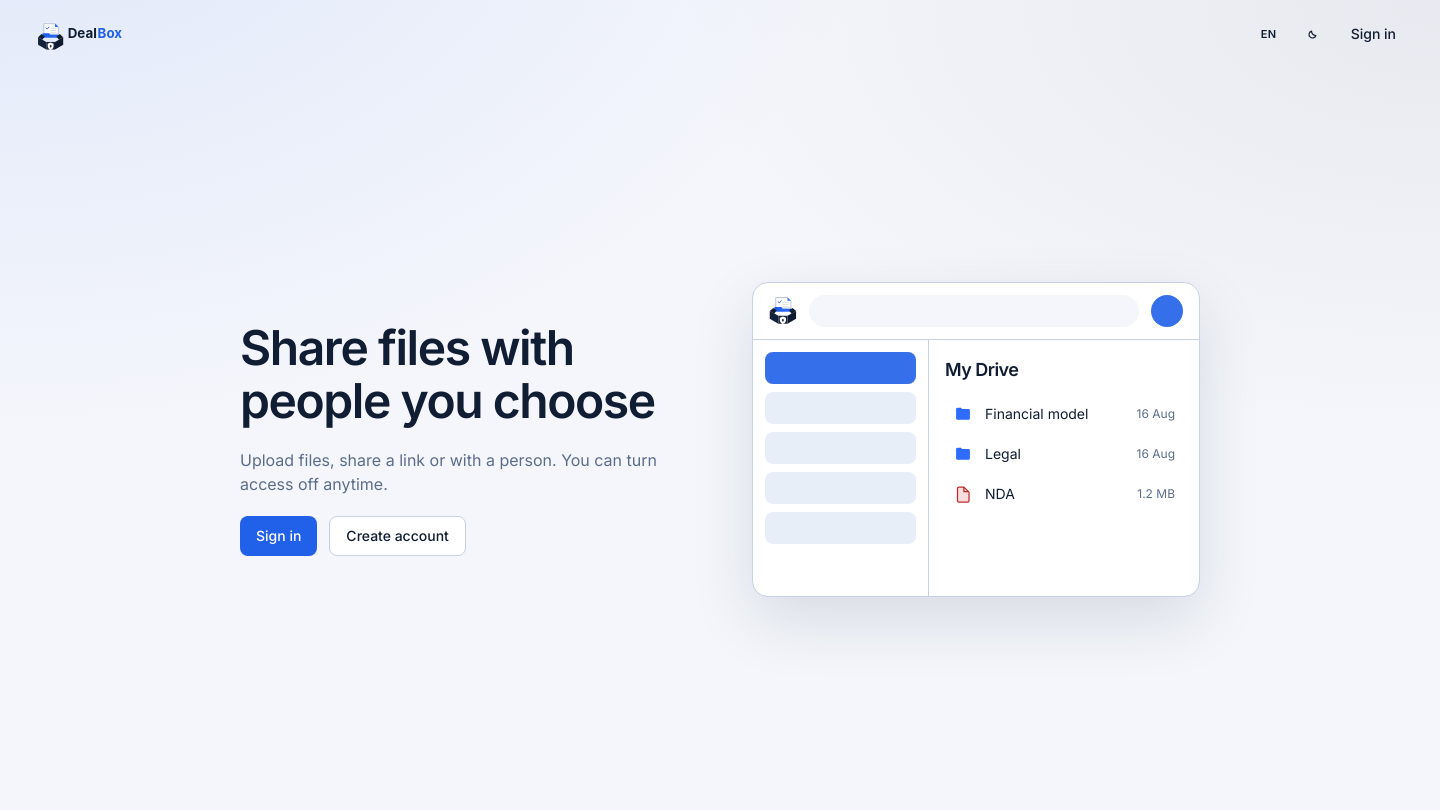
locale switcher › switches UI copy between locales
Expected: the 1st link "Sign in" is shown, [1351, 25, 1396, 42]
Step 1. Click the button with aria-label "Language" → point(1269, 34), box [1251, 16, 1287, 52]
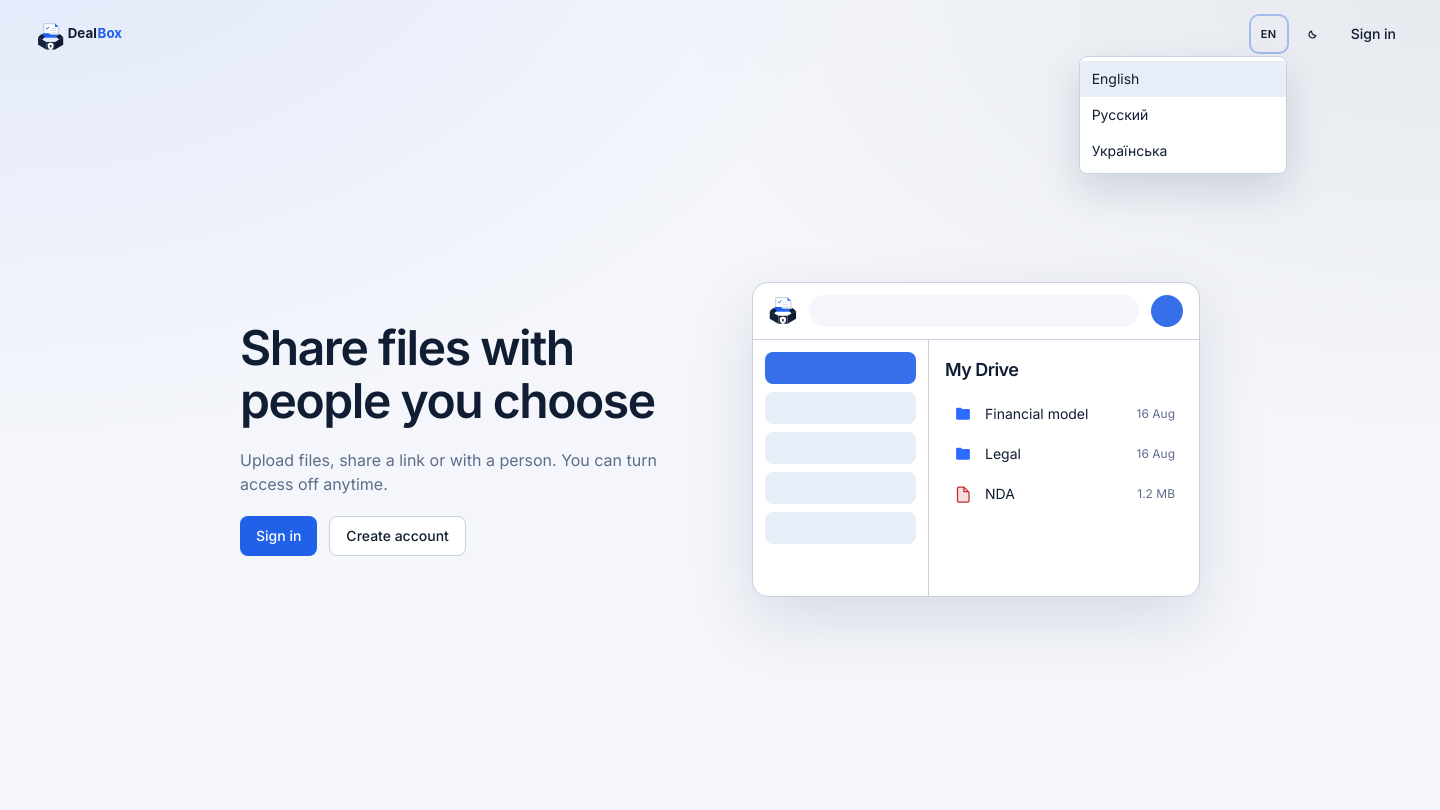
Step 2. Click the menu item "Русский" → point(1183, 115), box [1080, 97, 1286, 133]
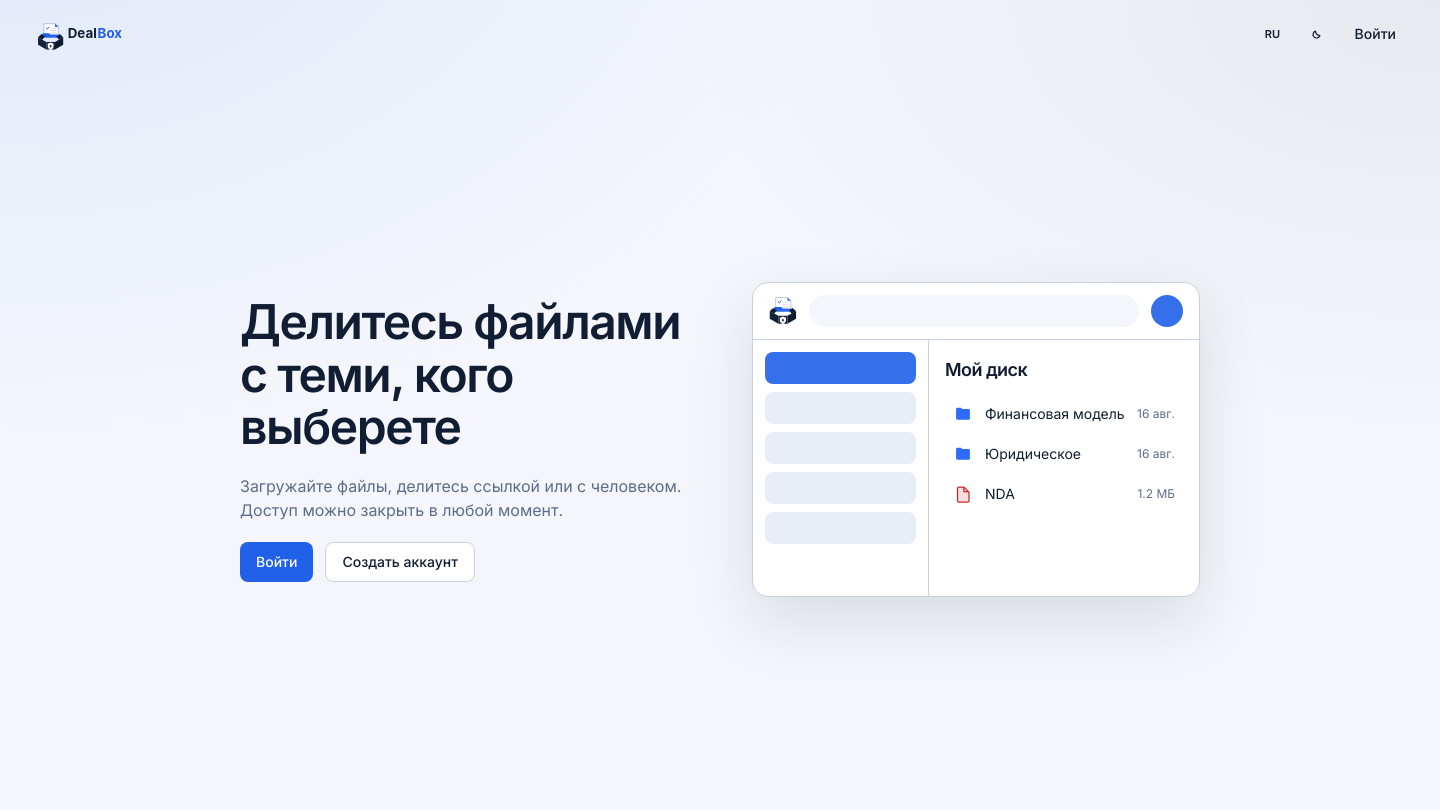
Result: the 1st link "Войти" is shown at [1355, 25, 1396, 42]
Step 3. Click the button with aria-label "Язык" → point(1273, 34), box [1255, 16, 1291, 52]
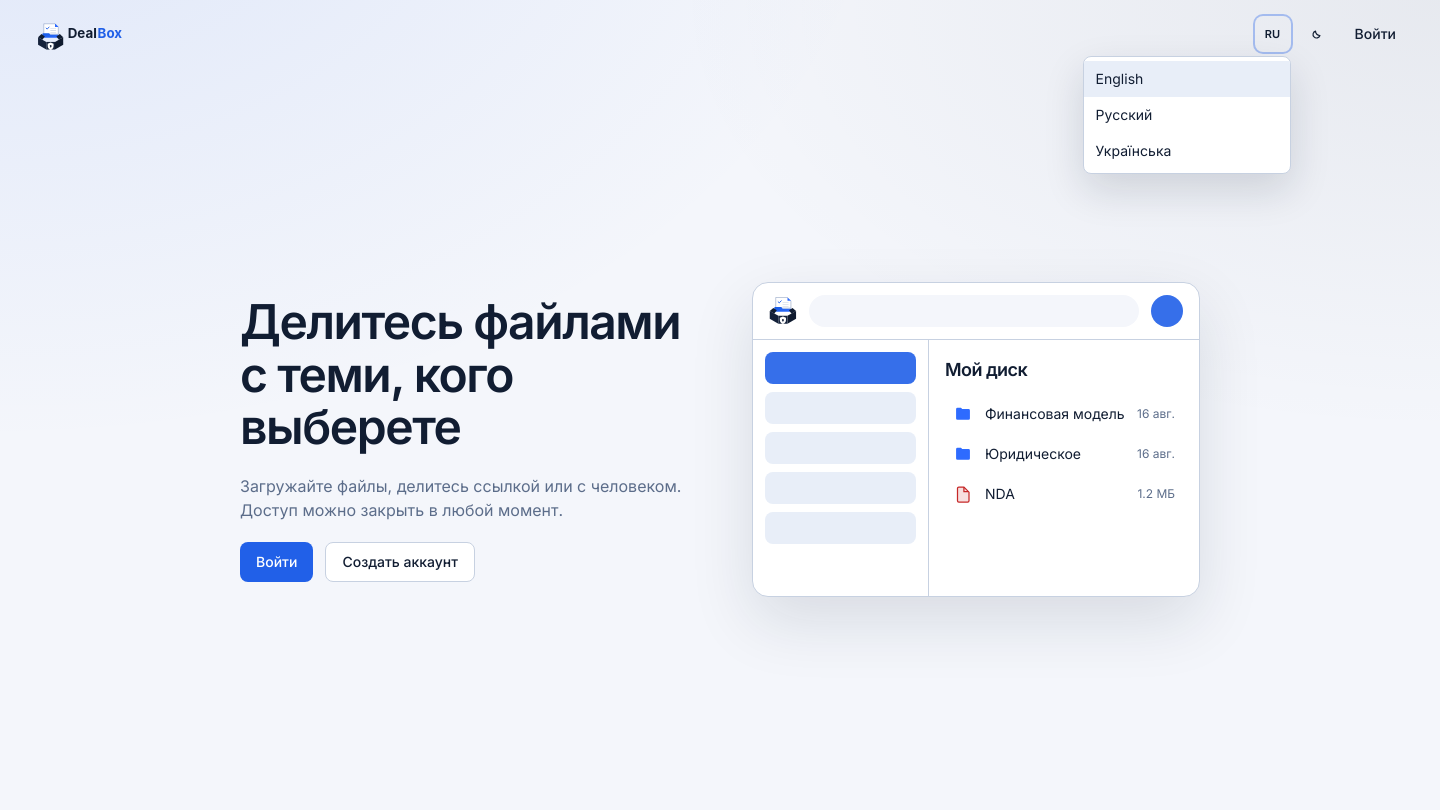
Step 4. Click the menu item "Українська" → point(1187, 151), box [1084, 133, 1290, 169]
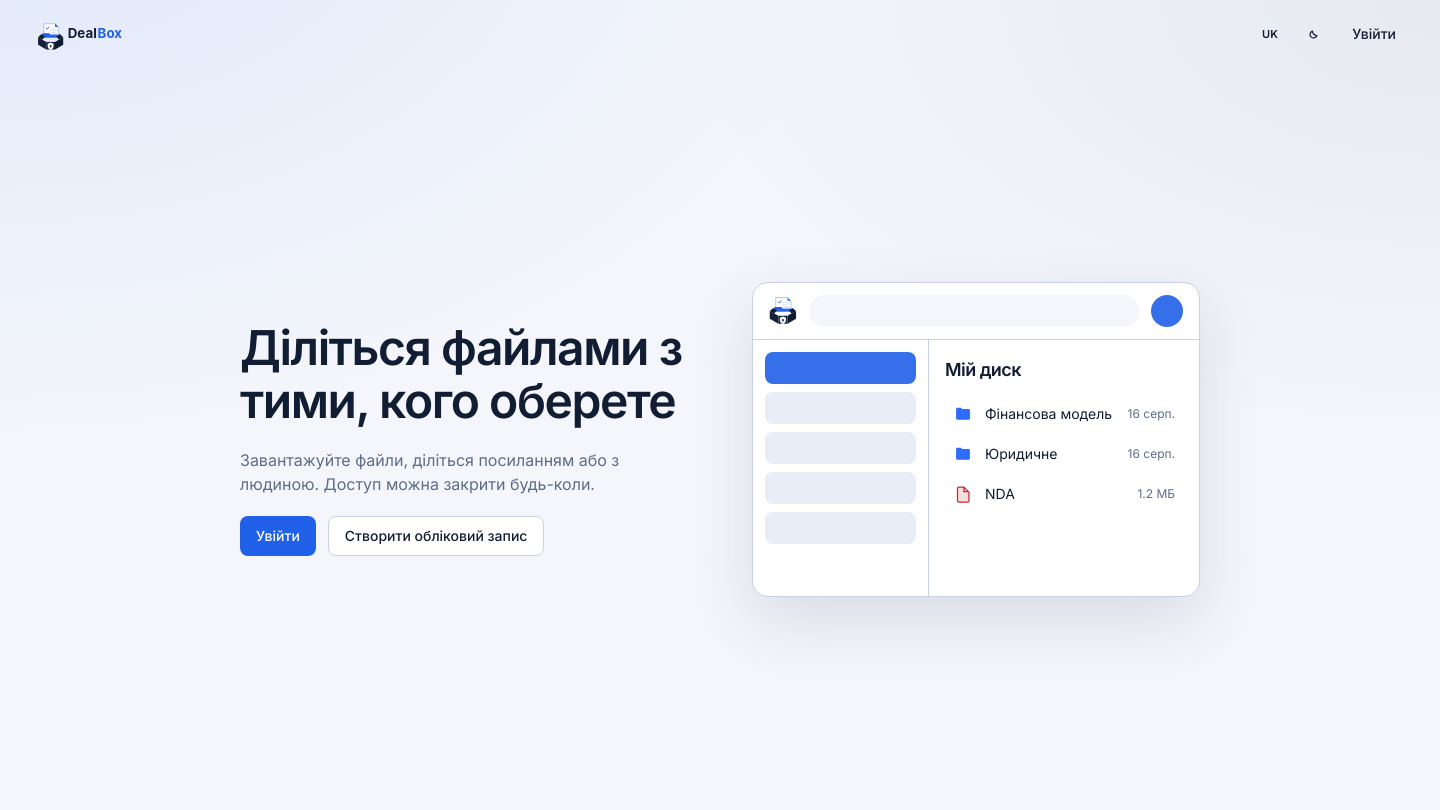
Result: the 1st link "Увійти" is shown at [1352, 25, 1396, 42]
